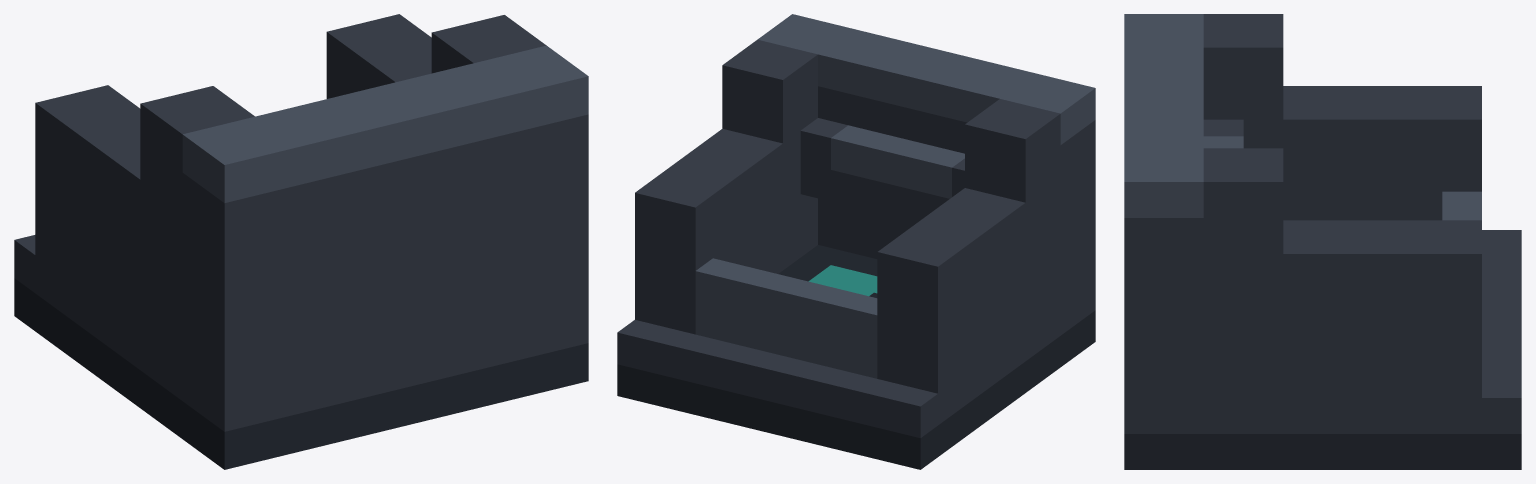
Rendered from sub_sump_cistern.glb.
The picture shows the model from 3 angles, left to right: view 1: azimuth 30°, elevation 25°; view 2: azimuth 150°, elevation 25°; view 3: azimuth 270°, elevation 25°; orthographic projection. The views are drawn at different scales.
Visible parts, largest first — view 1: rock; view 2: rock; view 3: rock.
Part boxes in pixels (box(x1,y1,x2,y2)): rock: box(14, 14, 588, 469); rock: box(617, 14, 1095, 469); rock: box(1124, 14, 1521, 469).
Bounding box in the file's own units: 10 × 8 × 10.
